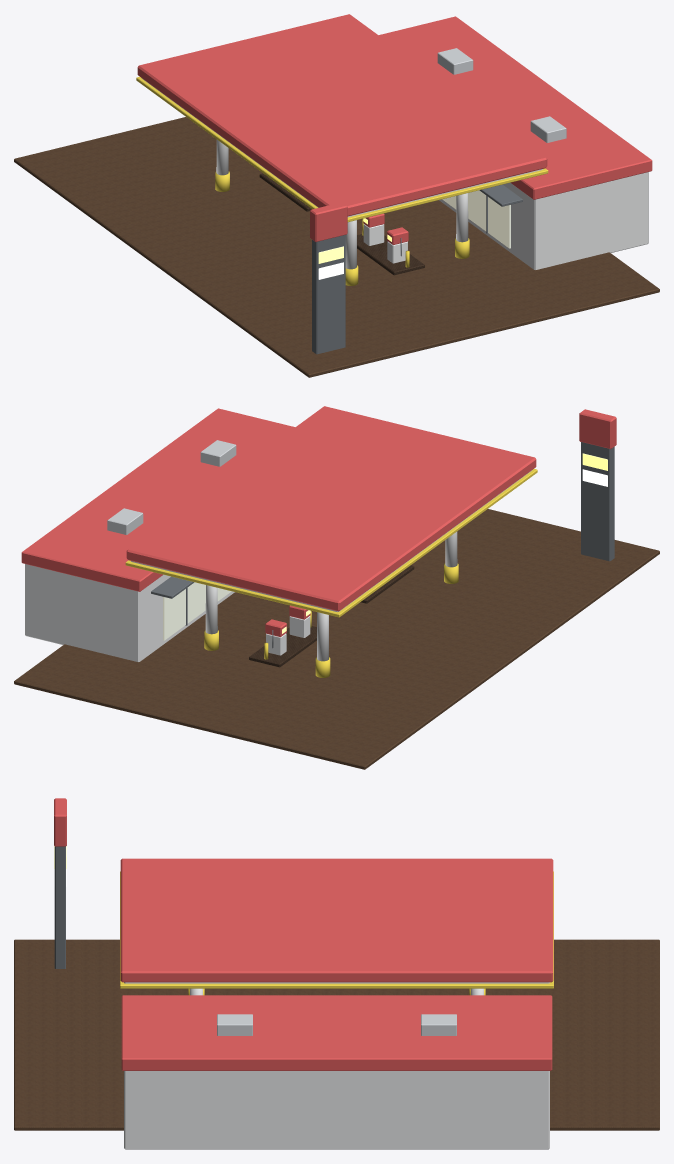
File: Kenya_PetrolStation_Modern.glb
3 renders of one model, top to bottom at view 1: azimuth 30°, elevation 25°; view 2: azimuth 150°, elevation 25°; view 3: azimuth 270°, elevation 25°, orthographic. The views are drawn at different scales.
Parts seen in each view (by area): view 1: ForecourtSlab, CanopyFascia, MartCrown, MartBody, TotemBase, CanopyAccent, MartGlass, TotemCrown, Island_0, MartAC2, MartAC1, ColShaft_2_-6 (+2 smaller); view 2: ForecourtSlab, CanopyFascia, MartCrown, MartBody, TotemBase, CanopyAccent, MartGlass, TotemCrown, Island_1, MartAC1, MartAC2, ColShaft_2_6 (+3 smaller); view 3: CanopyFascia, ForecourtSlab, MartBody, MartCrown, CanopyAccent, TotemBase, CanopyDeck, MartAC1, MartAC2, TotemCrown.
Boxes of the visible parts, x1=… form: ForecourtSlab: x1=14, y1=117, x2=659, y2=377; CanopyFascia: x1=137, y1=14, x2=547, y2=216; MartCrown: x1=379, y1=16, x2=652, y2=199; MartBody: x1=439, y1=172, x2=648, y2=269; TotemBase: x1=312, y1=235, x2=345, y2=354; CanopyAccent: x1=136, y1=76, x2=548, y2=222; MartGlass: x1=442, y1=190, x2=510, y2=248; TotemCrown: x1=310, y1=202, x2=347, y2=241; Island_0: x1=357, y1=234, x2=424, y2=275; MartAC2: x1=437, y1=48, x2=473, y2=74; MartAC1: x1=530, y1=116, x2=566, y2=142; ColShaft_2_-6: x1=456, y1=193, x2=468, y2=242; ForecourtSlab: x1=14, y1=509, x2=659, y2=769; CanopyFascia: x1=126, y1=406, x2=536, y2=611; MartCrown: x1=21, y1=408, x2=294, y2=591; MartBody: x1=25, y1=564, x2=234, y2=661; TotemBase: x1=581, y1=442, x2=614, y2=561; CanopyAccent: x1=125, y1=468, x2=537, y2=617; MartGlass: x1=163, y1=582, x2=231, y2=640; TotemCrown: x1=579, y1=409, x2=616, y2=449; Island_1: x1=249, y1=626, x2=316, y2=667; MartAC1: x1=200, y1=440, x2=236, y2=466; MartAC2: x1=107, y1=508, x2=143, y2=534; ColShaft_2_6: x1=205, y1=585, x2=217, y2=634; CanopyFascia: x1=120, y1=858, x2=553, y2=982; ForecourtSlab: x1=14, y1=939, x2=659, y2=1130; MartBody: x1=124, y1=1071, x2=549, y2=1149; MartCrown: x1=121, y1=995, x2=552, y2=1070; CanopyAccent: x1=120, y1=871, x2=553, y2=988; TotemBase: x1=54, y1=846, x2=65, y2=968; CanopyDeck: x1=124, y1=982, x2=549, y2=983; MartAC1: x1=217, y1=1014, x2=252, y2=1035; MartAC2: x1=421, y1=1014, x2=456, y2=1035; TotemCrown: x1=54, y1=798, x2=66, y2=846.
Bounding box in the file's own units: 21.93 × 7.72 × 28.5.
Materials: 11 (2 with a texture image).
